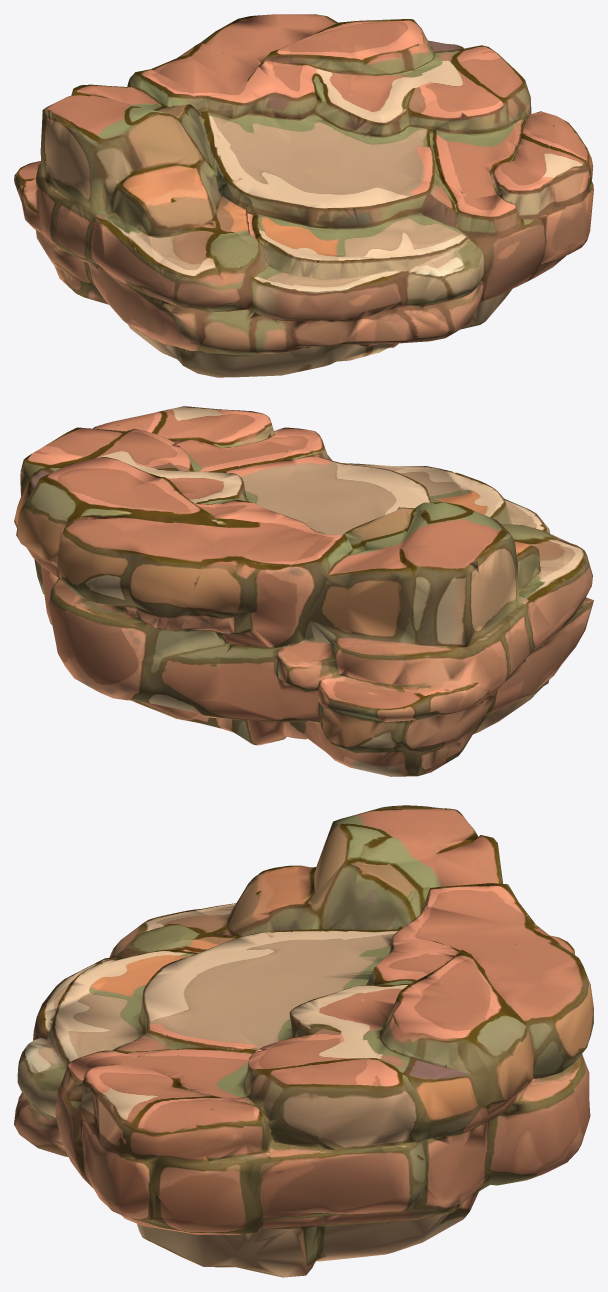
The model's file is whispered_petals.glb.
3 renders of one model, top to bottom at view 1: azimuth 30°, elevation 25°; view 2: azimuth 150°, elevation 25°; view 3: azimuth 270°, elevation 25°, orthographic. The views are drawn at different scales.
Parts seen in each view (by area): view 1: Mesh_0; view 2: Mesh_0; view 3: Mesh_0.
Part boxes in pixels (x1,y1,x2,y2): Mesh_0: [14, 14, 593, 377]; Mesh_0: [14, 406, 593, 776]; Mesh_0: [14, 805, 593, 1277].
Bounding box in the file's own units: 1.9 × 0.9766 × 1.73.
1 material, 1 textured.
